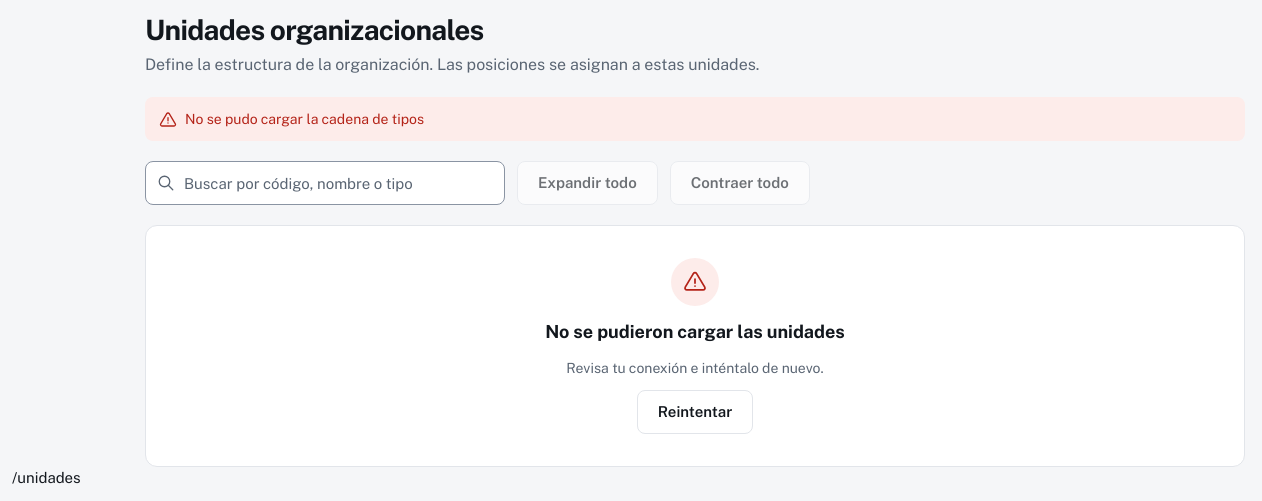
it: UnidadesPage › muestra el error con Reintentar
The width and height of the screenshot is (1262, 501).
Expected: the heading "No se pudieron cargar las unidades" is shown, 545,318 -> 845,346
Click the button "Reintentar" at (695, 412), box 637,390 -> 753,434
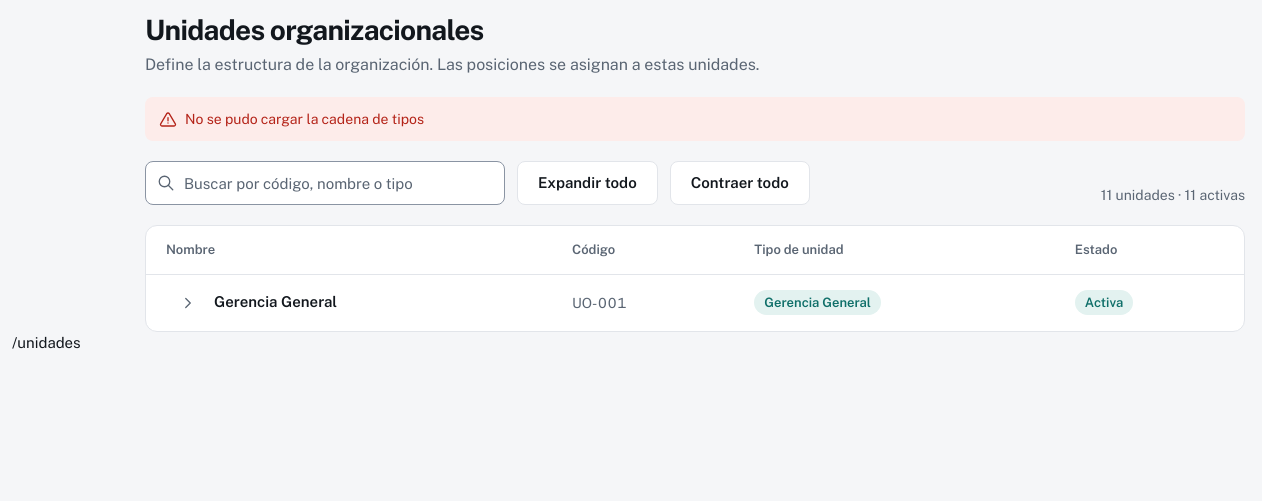
Expected: the table named "Unidades organizacionales" is shown, 146,226 -> 1244,330
